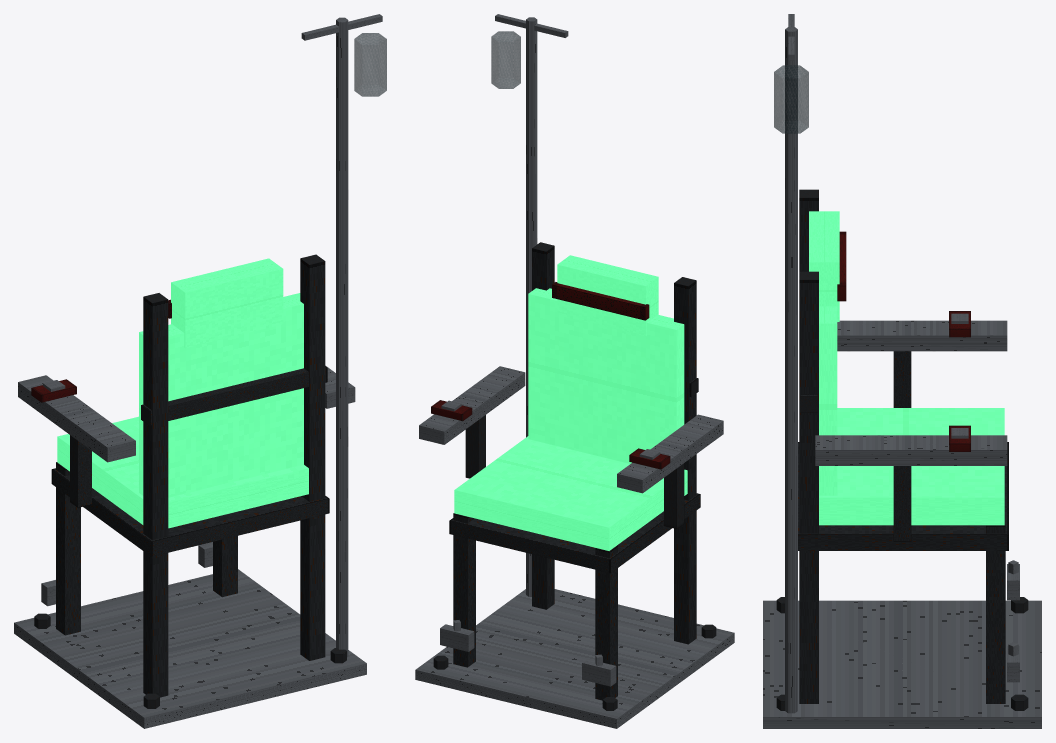
The model's file is restraint_chair_industrial_hazard.glb.
3 renders of one model, left to right at view 1: azimuth 30°, elevation 25°; view 2: azimuth 150°, elevation 25°; view 3: azimuth 270°, elevation 25°, orthographic. The views are drawn at different scales.
Visible parts, largest first — view 1: restraint_chair_industrial_hazard; view 2: restraint_chair_industrial_hazard; view 3: restraint_chair_industrial_hazard.
Part boxes in pixels (bbox=[...]): restraint_chair_industrial_hazard: bbox=[14, 14, 386, 728]; restraint_chair_industrial_hazard: bbox=[415, 14, 734, 728]; restraint_chair_industrial_hazard: bbox=[763, 14, 1041, 728].
Bounding box in the file's own units: 0.7566 × 1.75 × 0.6375.
5 materials, 5 textured.
